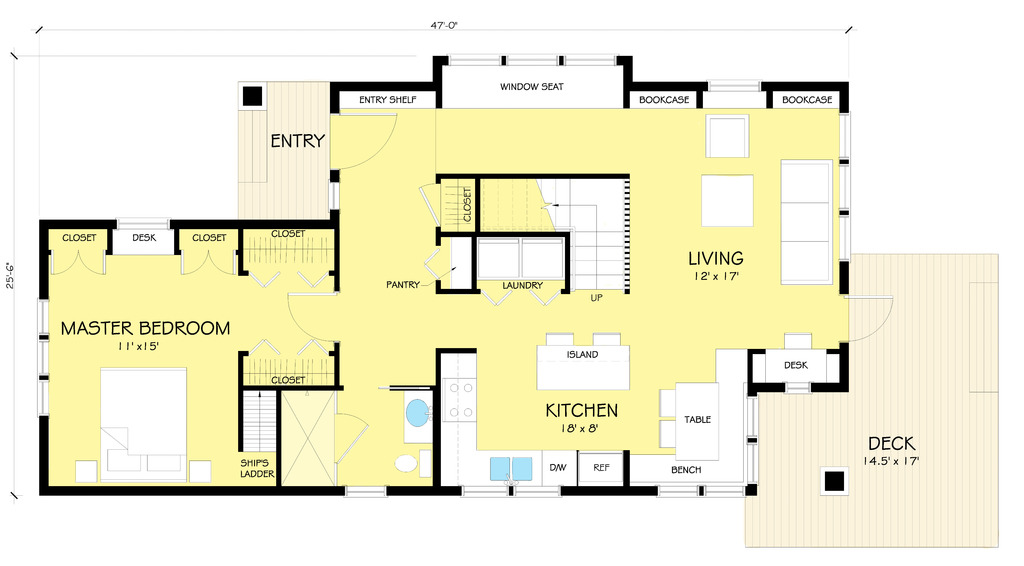bed: (95, 366, 187, 485)
coffee_table: (698, 172, 753, 228)
door: (331, 110, 402, 169), (839, 291, 895, 342), (283, 289, 337, 341), (331, 408, 372, 465), (50, 248, 110, 282), (178, 248, 238, 282)
kitchen_bar: (529, 330, 635, 397)
large_sink: (392, 446, 439, 476)
large_sofa: (778, 158, 836, 290)
small_sink: (398, 388, 432, 447)
small_sofa: (700, 106, 750, 162)
stairs: (567, 177, 637, 304), (240, 385, 279, 454)
twin_sink: (476, 450, 543, 488)
window: (445, 50, 621, 71), (835, 108, 856, 263), (34, 296, 56, 419), (456, 484, 567, 505), (657, 482, 745, 504), (743, 394, 764, 485), (112, 212, 175, 230), (706, 75, 762, 94), (339, 483, 390, 498)
